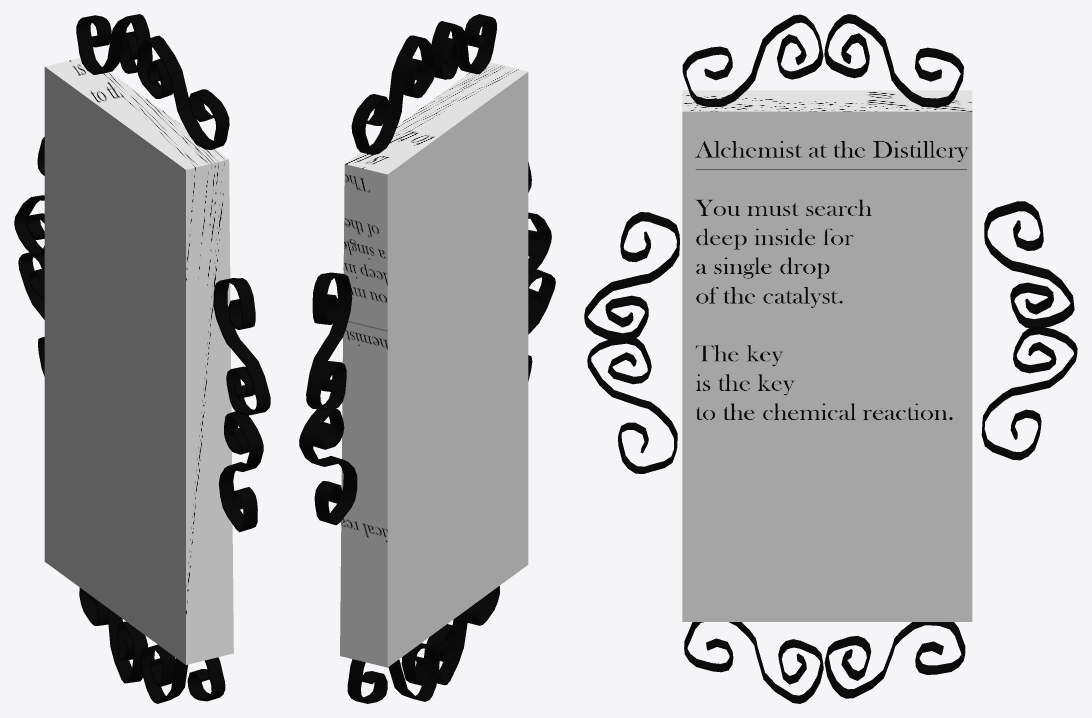
File: alch in distill.fbx
The picture shows the model from 3 angles, left to right: view 1: azimuth 30°, elevation 25°; view 2: azimuth 150°, elevation 25°; view 3: azimuth 270°, elevation 25°; orthographic projection. The views are drawn at different scales.
Parts seen in each view (by area): view 1: pCube1, nurbsToPoly3, nurbsToPoly5, nurbsToPoly4, nurbsToPoly6; view 2: pCube1, nurbsToPoly6, nurbsToPoly3, nurbsToPoly4, nurbsToPoly5; view 3: pCube1, nurbsToPoly6, nurbsToPoly3, nurbsToPoly5, nurbsToPoly4.
Boxes of the visible parts, left/top/right/bottom form: pCube1: left=44, top=58, right=233, bottom=664; nurbsToPoly3: left=76, top=14, right=229, bottom=149; nurbsToPoly5: left=213, top=278, right=270, bottom=532; nurbsToPoly4: left=79, top=587, right=225, bottom=703; nurbsToPoly6: left=14, top=137, right=44, bottom=376; pCube1: left=340, top=62, right=528, bottom=667; nurbsToPoly6: left=299, top=272, right=357, bottom=525; nurbsToPoly3: left=351, top=14, right=496, bottom=154; nurbsToPoly4: left=347, top=586, right=499, bottom=703; nurbsToPoly5: left=528, top=162, right=555, bottom=381; pCube1: left=682, top=90, right=972, bottom=621; nurbsToPoly6: left=981, top=201, right=1077, bottom=460; nurbsToPoly3: left=682, top=14, right=963, bottom=107; nurbsToPoly5: left=584, top=212, right=679, bottom=473; nurbsToPoly4: left=684, top=622, right=965, bottom=703.
Bounding box in the file's own units: 1.56 × 20.81 × 13.6.
